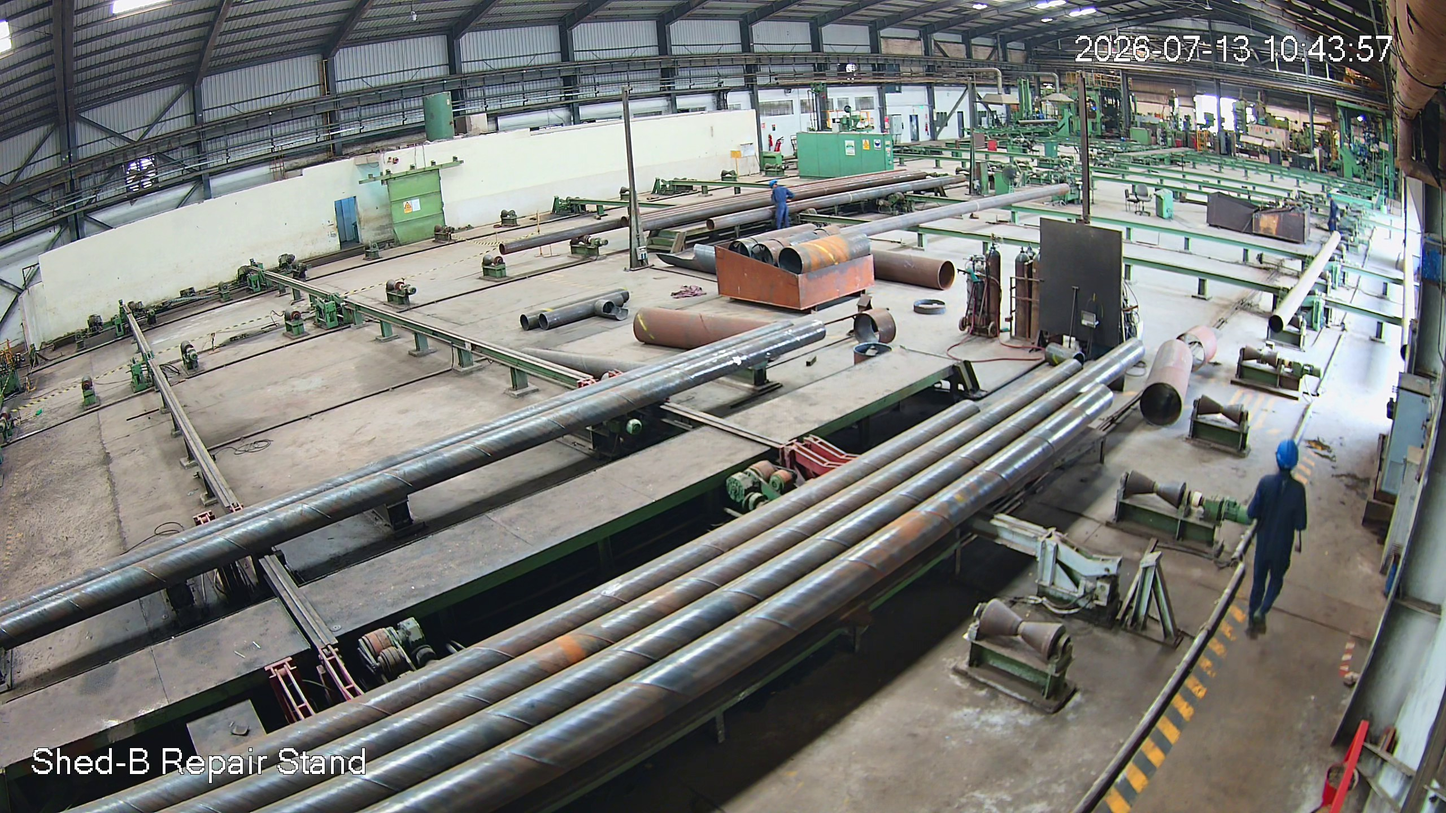Helmet: (1271, 438, 1303, 487)
Person: (1234, 440, 1316, 638)
